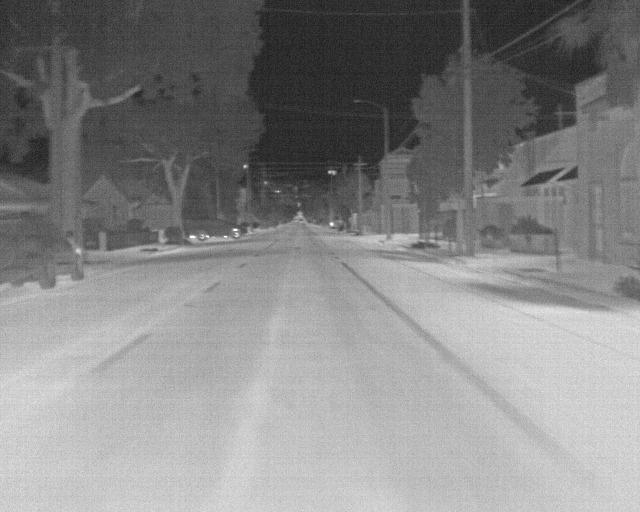car: (0, 212, 87, 290), (182, 216, 249, 242)
